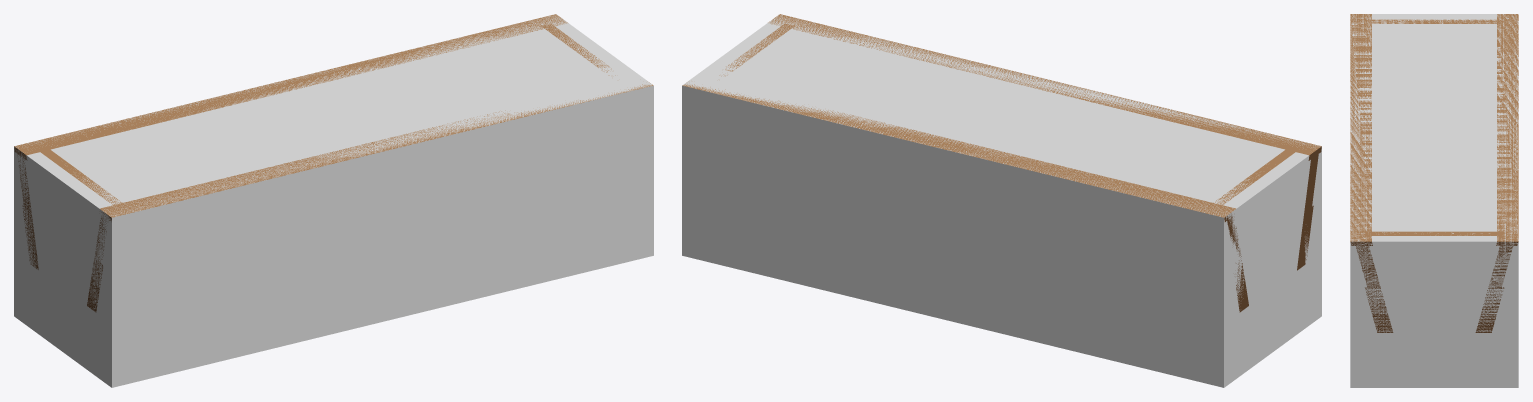
The model's file is FMS_Trough_Water.fbx.
3 renders of one model, left to right at view 1: azimuth 30°, elevation 25°; view 2: azimuth 150°, elevation 25°; view 3: azimuth 270°, elevation 25°, orthographic. The views are drawn at different scales.
Parts seen in each view (by area): view 1: FMS_Trough_Water_Col, FMS_Trough_Water_LOD0; view 2: FMS_Trough_Water_Col, FMS_Trough_Water_LOD0; view 3: FMS_Trough_Water_Col, FMS_Trough_Water_LOD0.
Boxes of the visible parts, box(x1,y1,x2,y2) form: FMS_Trough_Water_Col: box(14, 14, 653, 387); FMS_Trough_Water_LOD0: box(14, 14, 653, 312); FMS_Trough_Water_Col: box(682, 14, 1321, 387); FMS_Trough_Water_LOD0: box(682, 14, 1321, 312); FMS_Trough_Water_Col: box(1350, 14, 1518, 387); FMS_Trough_Water_LOD0: box(1350, 14, 1518, 332).
Size of what is drawn, in the model's own units: 1.6 by 0.48 by 0.5.
1 material, 1 textured.
